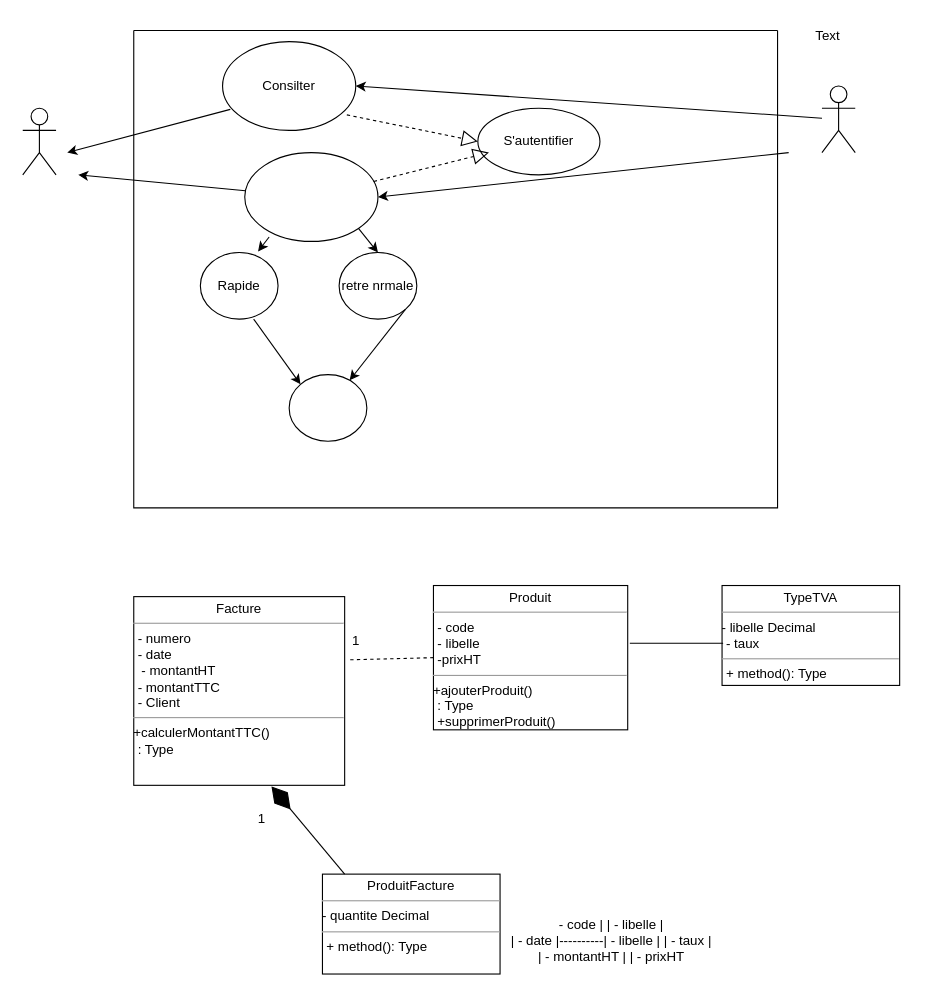
This 942x993 diagram has some shape labels left out. Each missing label, with the centre of its shape:
"Clients" belongs at pixel 39 141.
"editer ticket" belongs at pixel 327 407.
"Personnel Systeme Centrale" belongs at pixel 838 119.
"Retrer" belongs at pixel 311 196.
